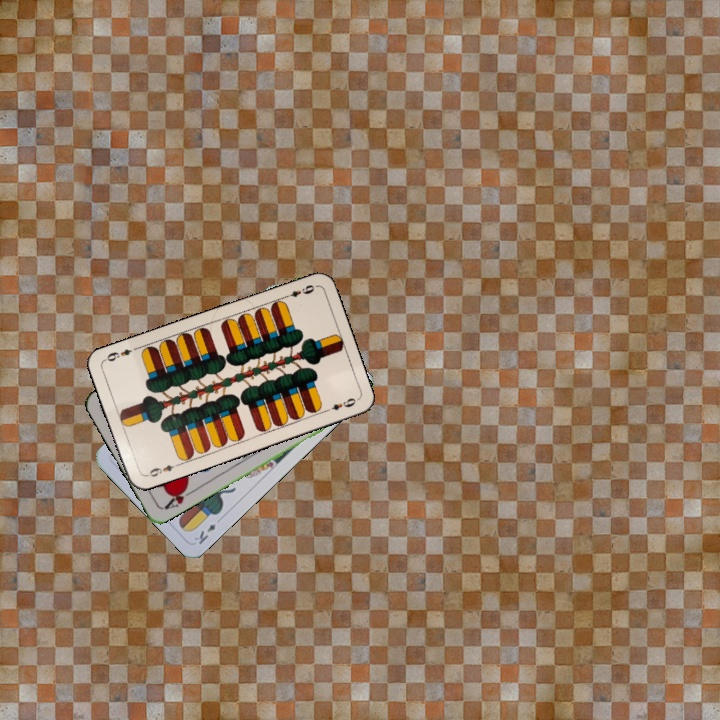E9: (142, 460, 181, 480), (279, 281, 317, 301)
EK: (190, 520, 219, 547)
HA: (160, 481, 197, 512)
